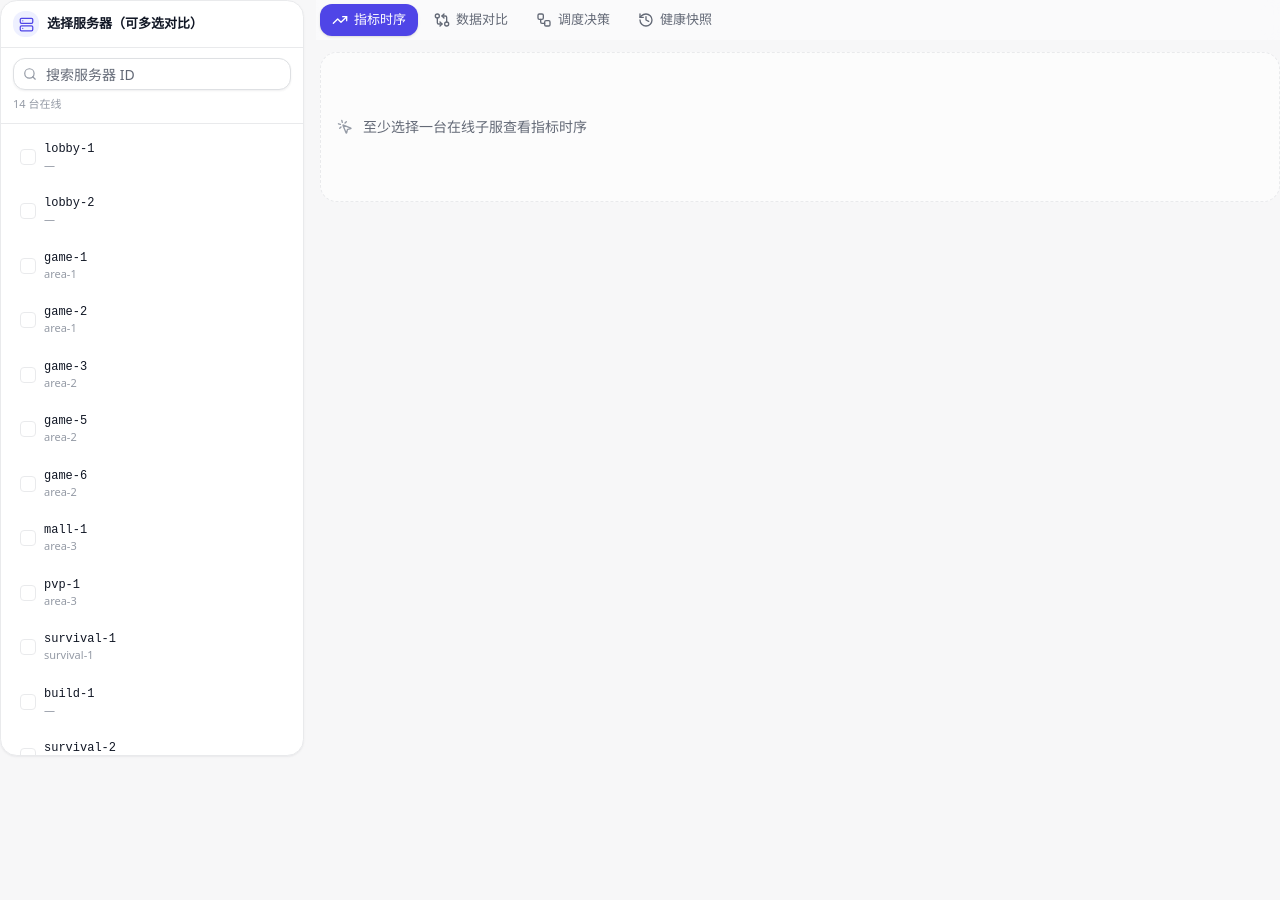
Test case: /service-analysis 调度决策下钻板块 › 按结果筛选失败后列表仅剩失败决策
What coordinates should you click on to do the following:
click the tab "调度决策"
I would click on:
 (573, 20)
Its box is x1=524 y1=4 x2=622 y2=36.
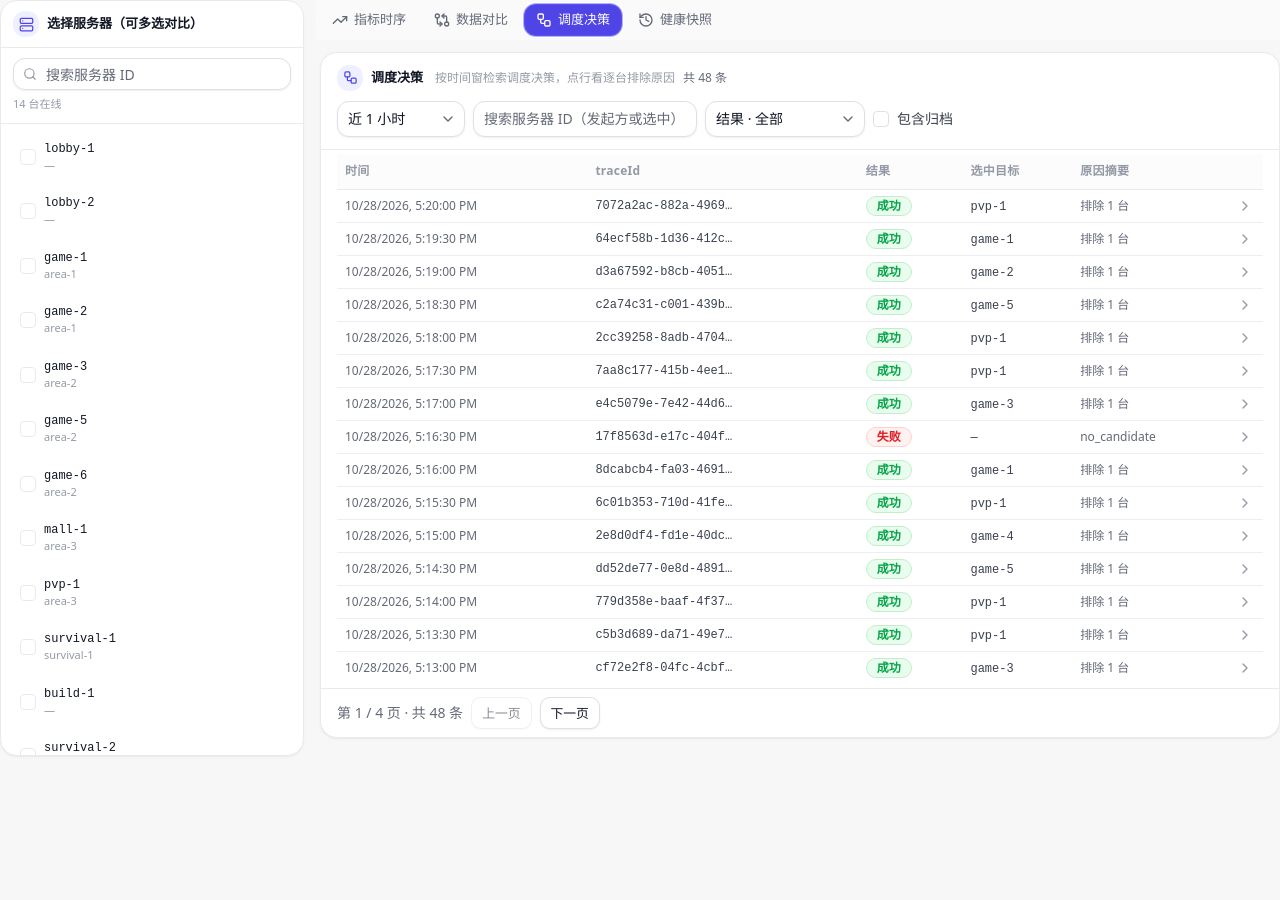
What coordinates should you click on to do the following:
click the dropdown labelled "结果"
I would click on:
 (785, 118)
Its box is x1=705 y1=100 x2=865 y2=136.
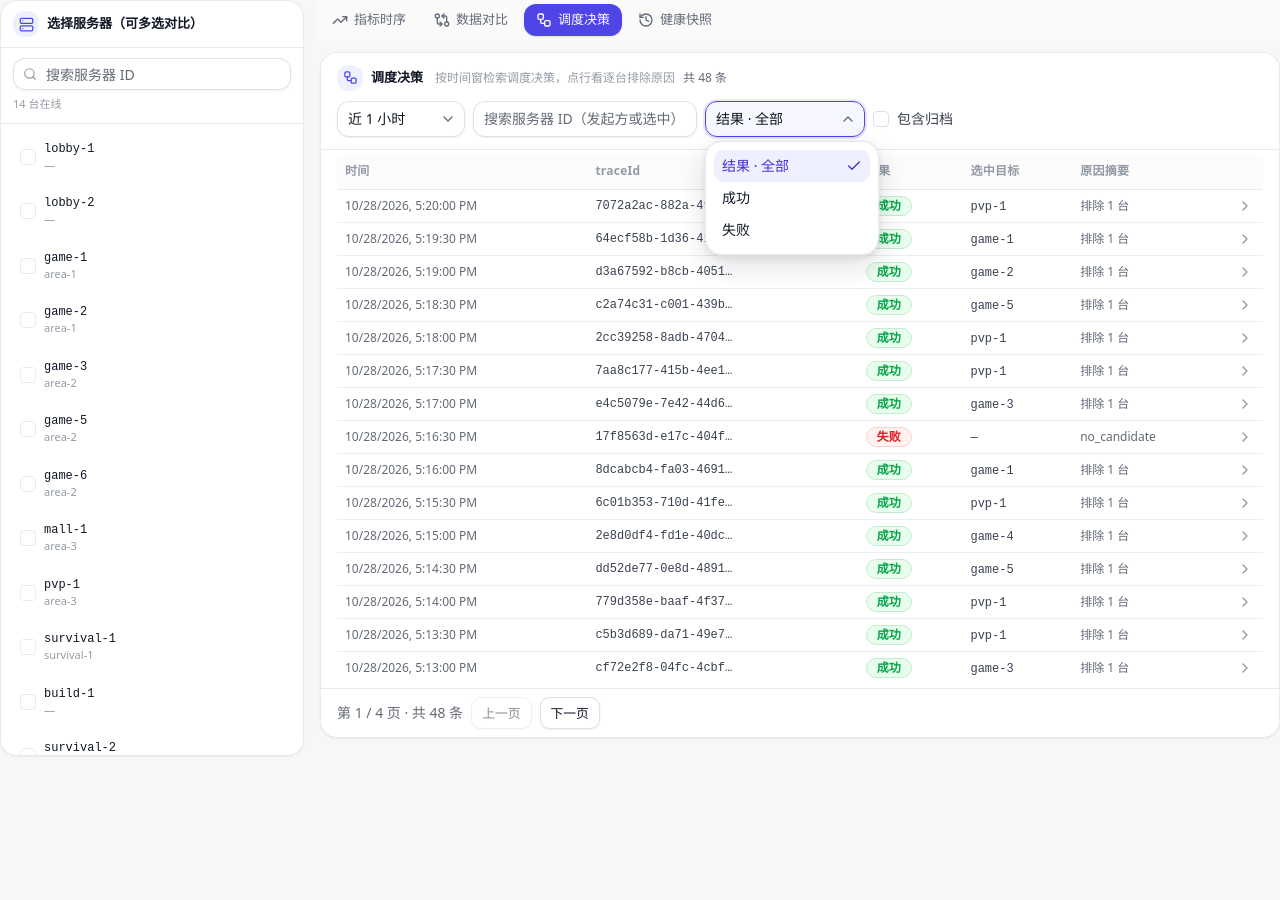
What coordinates should you click on to do the following:
click the option "失败"
I would click on:
 (736, 230)
Its box is x1=722 y1=220 x2=750 y2=239.
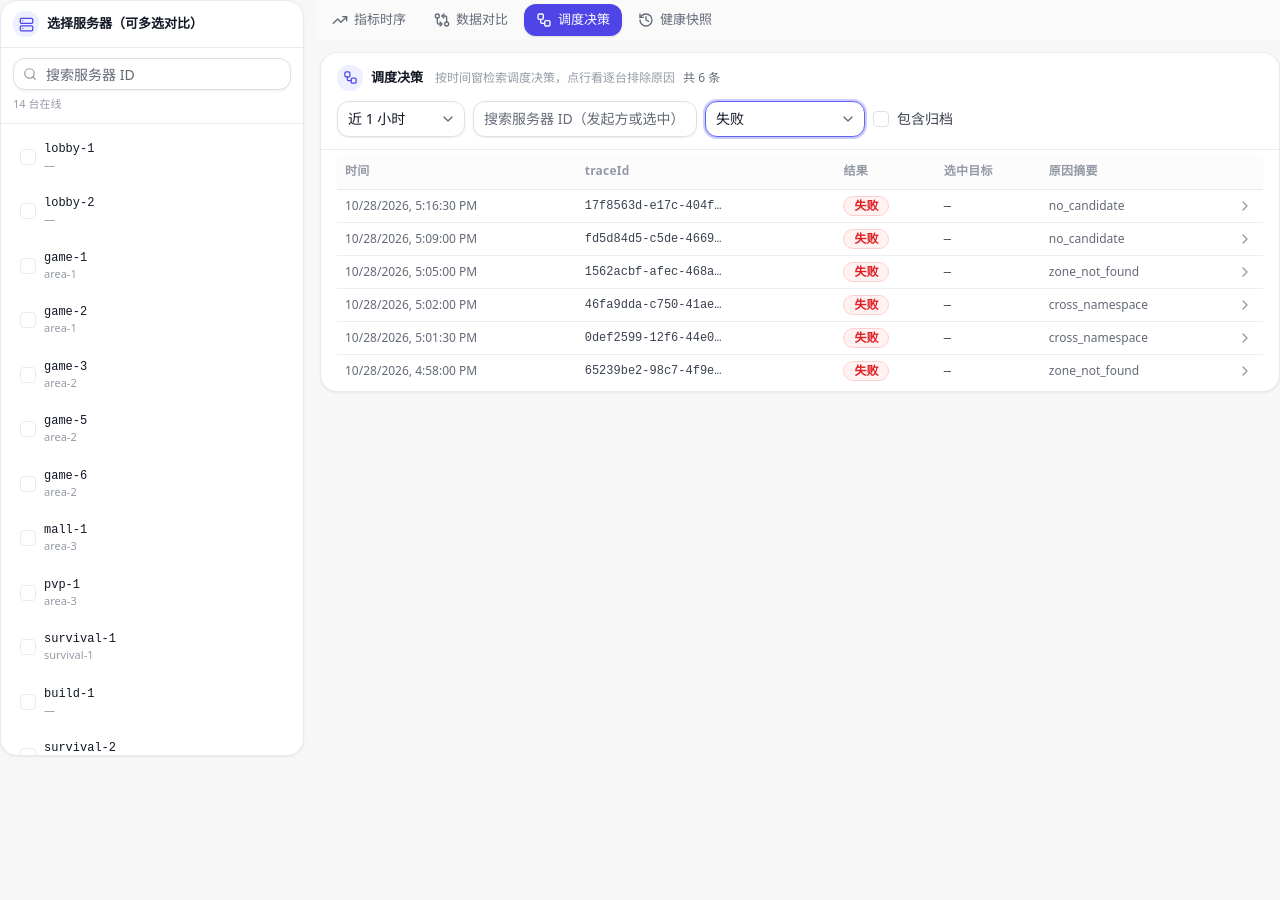
Check: the text "共 48 条" is not shown
Check: the icon "成功" is gone
Check: the text "失败" is shown, box x1=716 y1=108 x2=744 y2=128
